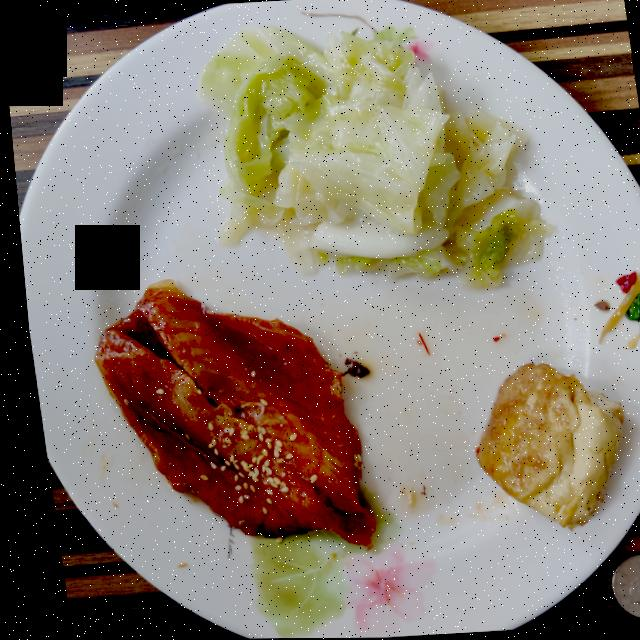Kabayaki sea bream fillet: (88, 279, 366, 547)
cabbage: (196, 25, 547, 288)
coin: (601, 554, 640, 619)
